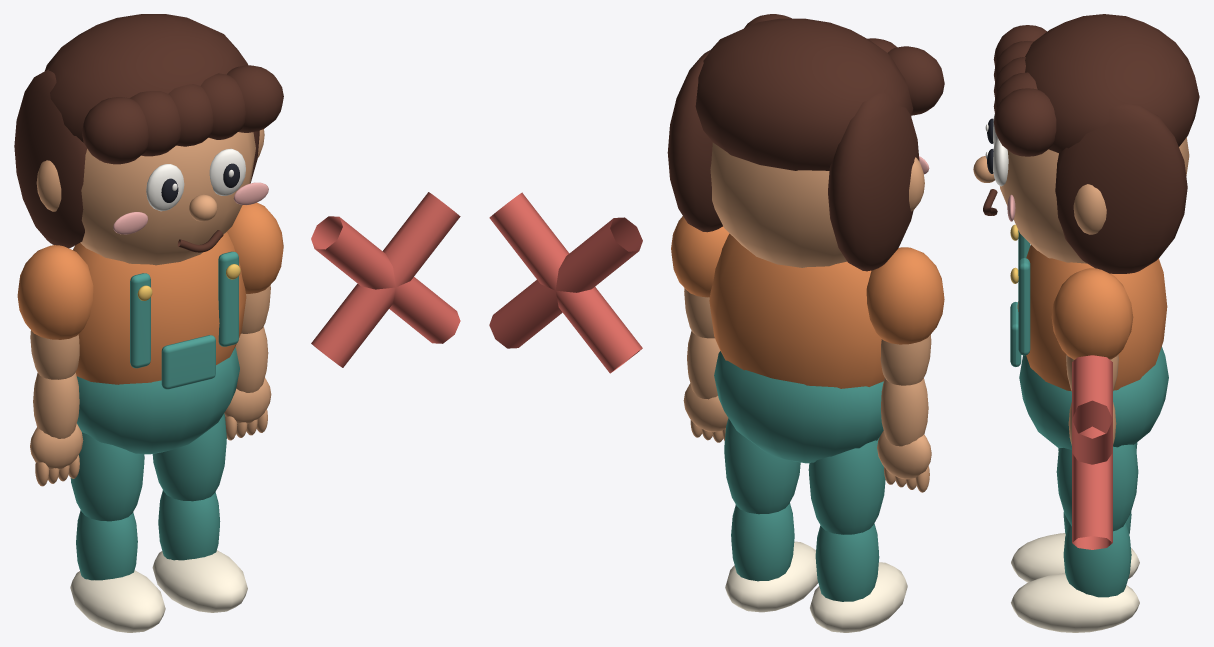
Rendered from ava-need-no.glb.
The picture shows the model from 3 angles, left to right: view 1: azimuth 30°, elevation 25°; view 2: azimuth 150°, elevation 25°; view 3: azimuth 270°, elevation 25°; orthographic projection. The views are drawn at different scales.
Visible parts, largest first — view 1: soft shirt, hair cap, clay head, overalls, bob hair, no cross, no cross.001, shirt sleeve, trouser leg, little shoe, little shoe.001, trouser leg.001 (+21 smaller); view 2: hair cap, soft shirt, bob hair, overalls, clay head, no cross, no cross.001, shirt sleeve, trouser leg, bob hair.001, trouser leg.001, lower leg (+11 smaller); view 3: bob hair.001, hair cap, soft shirt, overalls, shirt sleeve.001, no cross.001, clay head, little shoe.001, fringe.004, lower leg.001, trouser leg.001, little shoe (+10 smaller).
Part boxes in pixels (x1,y1,x2,y2): soft shirt: (73, 232, 246, 384); hair cap: (45, 14, 247, 142); clay head: (80, 132, 255, 265); overalls: (77, 347, 239, 454); bob hair: (14, 69, 87, 248); no cross: (311, 192, 460, 367); no cross.001: (311, 216, 460, 343); shirt sleeve: (17, 245, 93, 339); trouser leg: (70, 432, 144, 521); little shoe: (70, 570, 165, 632); little shoe.001: (152, 550, 247, 612); trouser leg.001: (152, 413, 226, 501); hair cap: (695, 18, 913, 170); soft shirt: (709, 233, 884, 388); bob hair: (828, 92, 919, 271); overalls: (714, 351, 883, 463); clay head: (710, 142, 846, 267); no cross: (489, 192, 642, 373); no cross.001: (489, 217, 642, 348); shirt sleeve: (866, 247, 944, 344); trouser leg: (808, 437, 885, 534); bob hair.001: (667, 50, 722, 232); trouser leg.001: (724, 418, 800, 514); lower leg: (815, 523, 879, 601); bob hair.001: (1055, 104, 1187, 273); hair cap: (1025, 14, 1199, 153); soft shirt: (1017, 245, 1167, 391); overalls: (1019, 346, 1168, 449); shirt sleeve.001: (1051, 268, 1133, 359); no cross.001: (1072, 355, 1112, 549); clay head: (1000, 137, 1189, 263); little shoe.001: (1011, 573, 1139, 632); fringe.004: (993, 88, 1056, 156); lower leg.001: (1063, 523, 1131, 597); trouser leg.001: (1056, 444, 1138, 531); little shoe: (1011, 533, 1139, 582).
Bounding box in the file's own units: 1.48 × 1.87 × 0.665.
